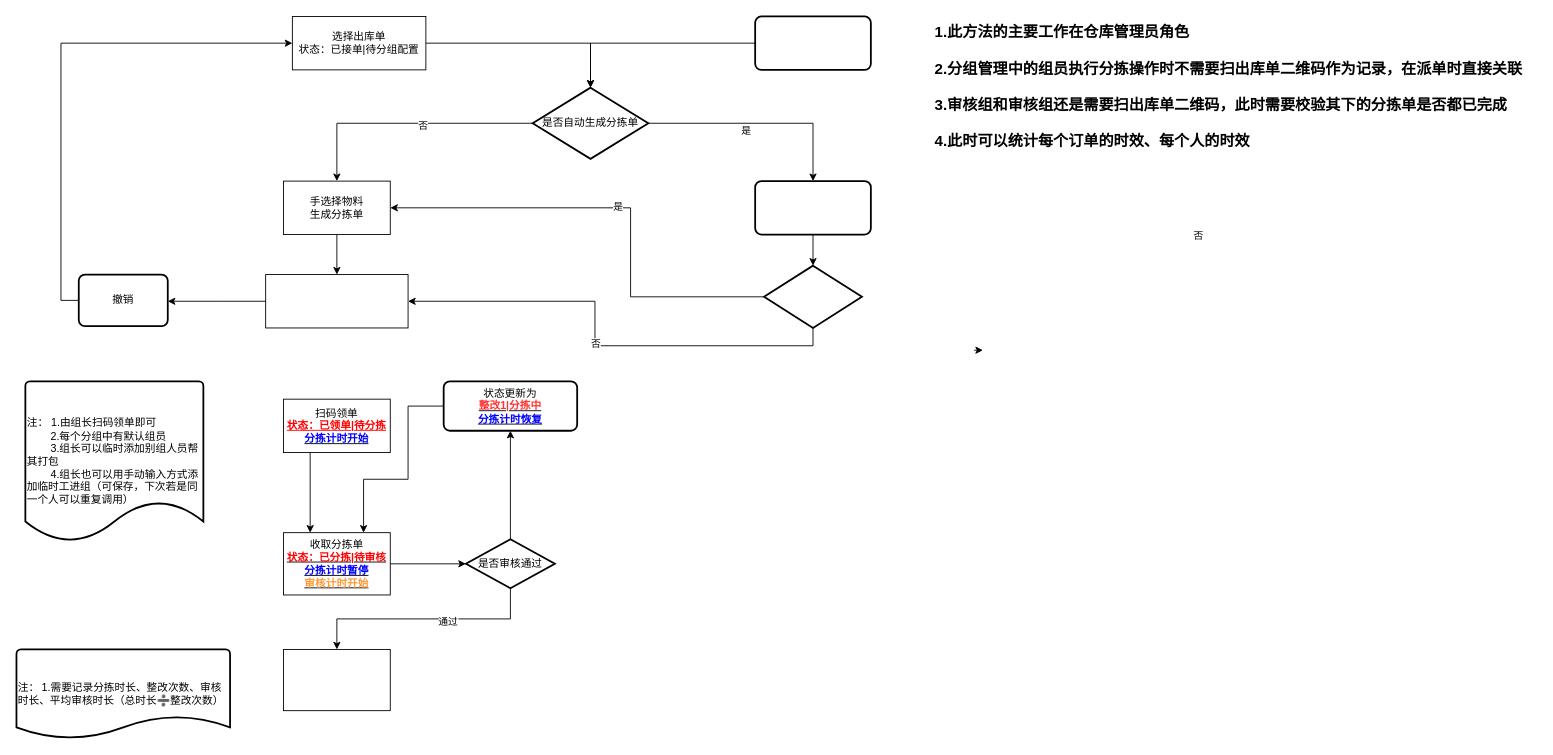
This 1553x755 diagram has some shape labels left out. The shapes that lost their labels are listed below. From the top down, each one's centre as x and y in pixels, then its label:
At pixel 812 42: "给分组配置分拣物料".
At pixel 812 207: "根据分组配置自动 生成分拣单".
At pixel 336 301: "生成分拣单 状态：已分组配置|待领单".
At pixel 812 296: "是否修改".
At pixel 336 680: "扫码结束分拣 状态：已审核 保存分拣时间（累加） 审核计时结束".
